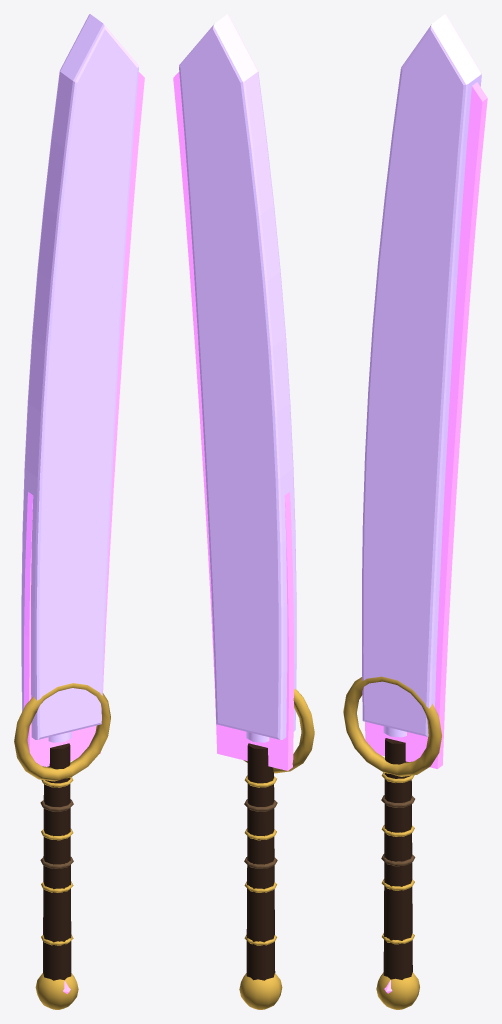
Rendered from greatsword_f4_5989a744.glb.
3 views of the same model, side by side, from view 1: azimuth 30°, elevation 25°; view 2: azimuth 150°, elevation 25°; view 3: azimuth 330°, elevation 25° (orthographic).
Visible parts, largest first — view 1: m4_ow80_, m2_ow80_, m0_, m5_ow80_, m6_ow80_; view 2: m4_ow80_, m0_, m2_ow80_, m5_ow80_, m6_ow80_; view 3: m4_ow80_, m0_, m2_ow80_, m5_ow80_, m6_ow80_.
Boxes of the visible parts, x1,y1,x2,y2 form: m4_ow80_: (21,14,138,742); m2_ow80_: (43,743,71,980); m0_: (24,72,144,766); m5_ow80_: (14,683,110,1009); m6_ow80_: (40,799,73,868); m4_ow80_: (179,14,296,742); m0_: (173,72,293,770); m2_ow80_: (246,743,275,980); m5_ow80_: (239,689,314,1009); m6_ow80_: (244,799,277,868); m4_ow80_: (362,14,481,737); m0_: (365,82,487,768); m2_ow80_: (383,738,412,979); m5_ow80_: (343,676,441,1009); m6_ow80_: (381,795,415,866).
Size of the model in its own units: 0.5372 by 3.76 by 0.1555.
